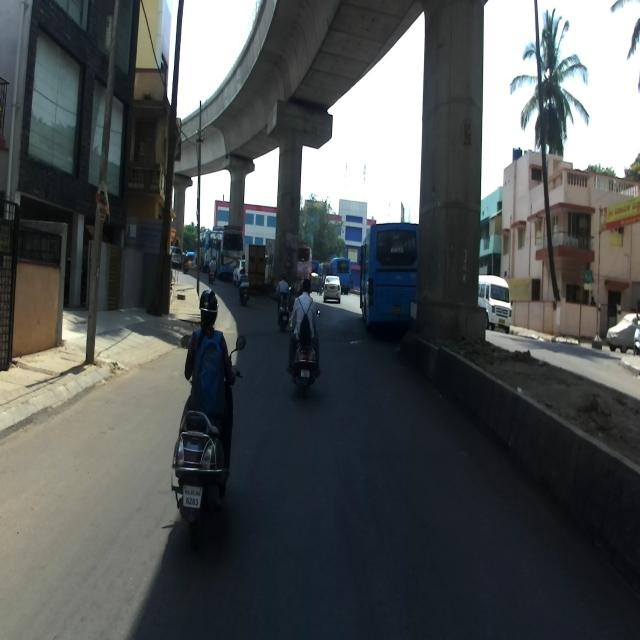bus: (359, 220, 418, 332), (210, 225, 247, 279)
car: (606, 311, 640, 353), (323, 274, 341, 303)
mini-bus: (478, 273, 512, 331)
scooter: (170, 330, 246, 546), (287, 304, 320, 401)
